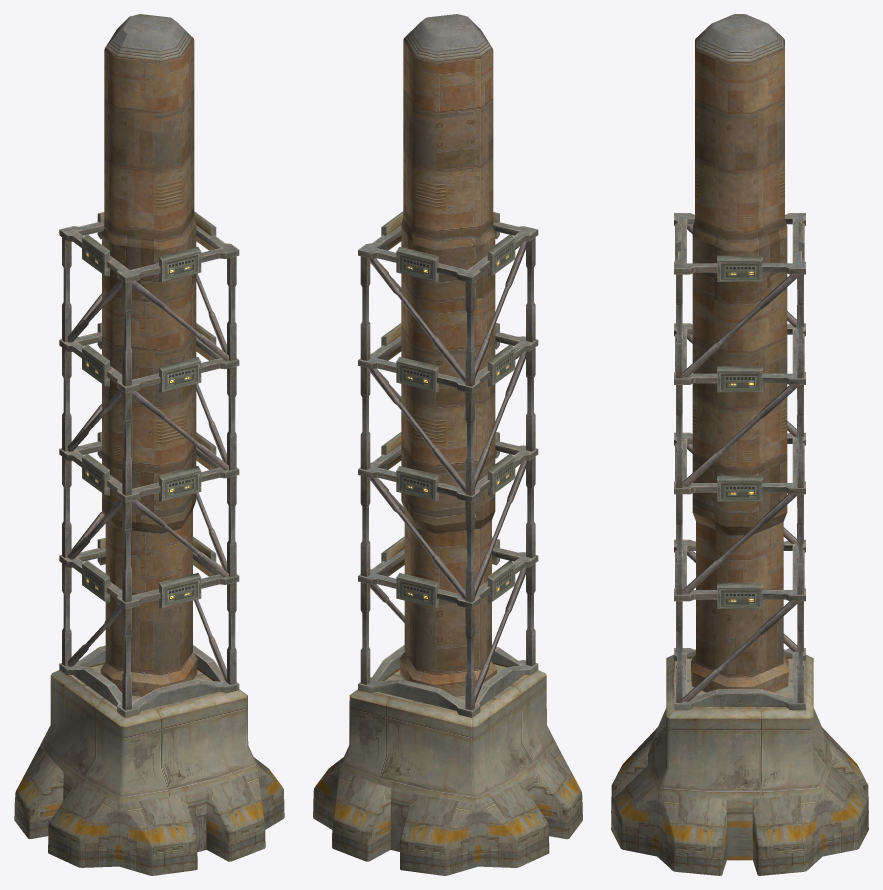
The model's file is hut_arch_industrial_tower_01.glb.
The picture shows the model from 3 angles, left to right: view 1: azimuth 30°, elevation 25°; view 2: azimuth 150°, elevation 25°; view 3: azimuth 270°, elevation 25°; orthographic projection.
Visible parts, largest first — view 1: hut_arch_industrial_tower_01; view 2: hut_arch_industrial_tower_01; view 3: hut_arch_industrial_tower_01.
Part boxes in pixels (x1=…): hut_arch_industrial_tower_01: x1=14, y1=14, x2=284, y2=875; hut_arch_industrial_tower_01: x1=313, y1=14, x2=582, y2=875; hut_arch_industrial_tower_01: x1=611, y1=14, x2=868, y2=875.
Bounding box in the file's own units: 1.31 × 4.48 × 1.31.
3 materials, 3 textured.
